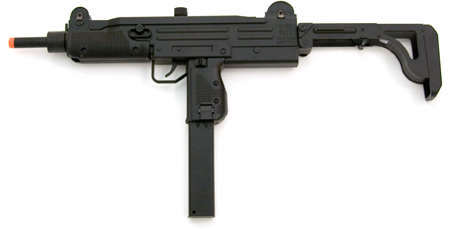rifle: (5, 1, 446, 220)
